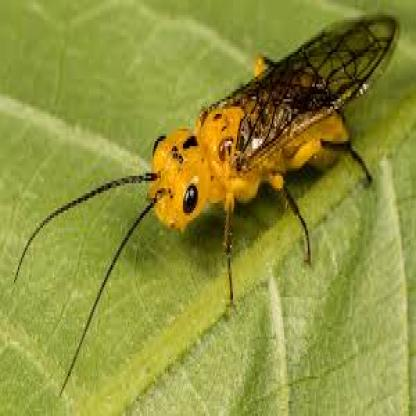sawfly: (10, 0, 402, 395)
